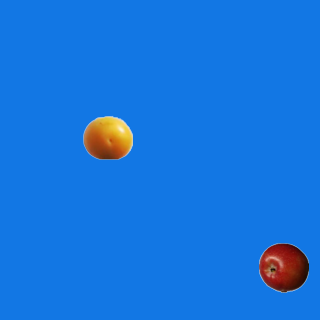Apple Braeburn: (258, 242, 308, 292)
Cherry Wax Yellow: (82, 112, 132, 162)
